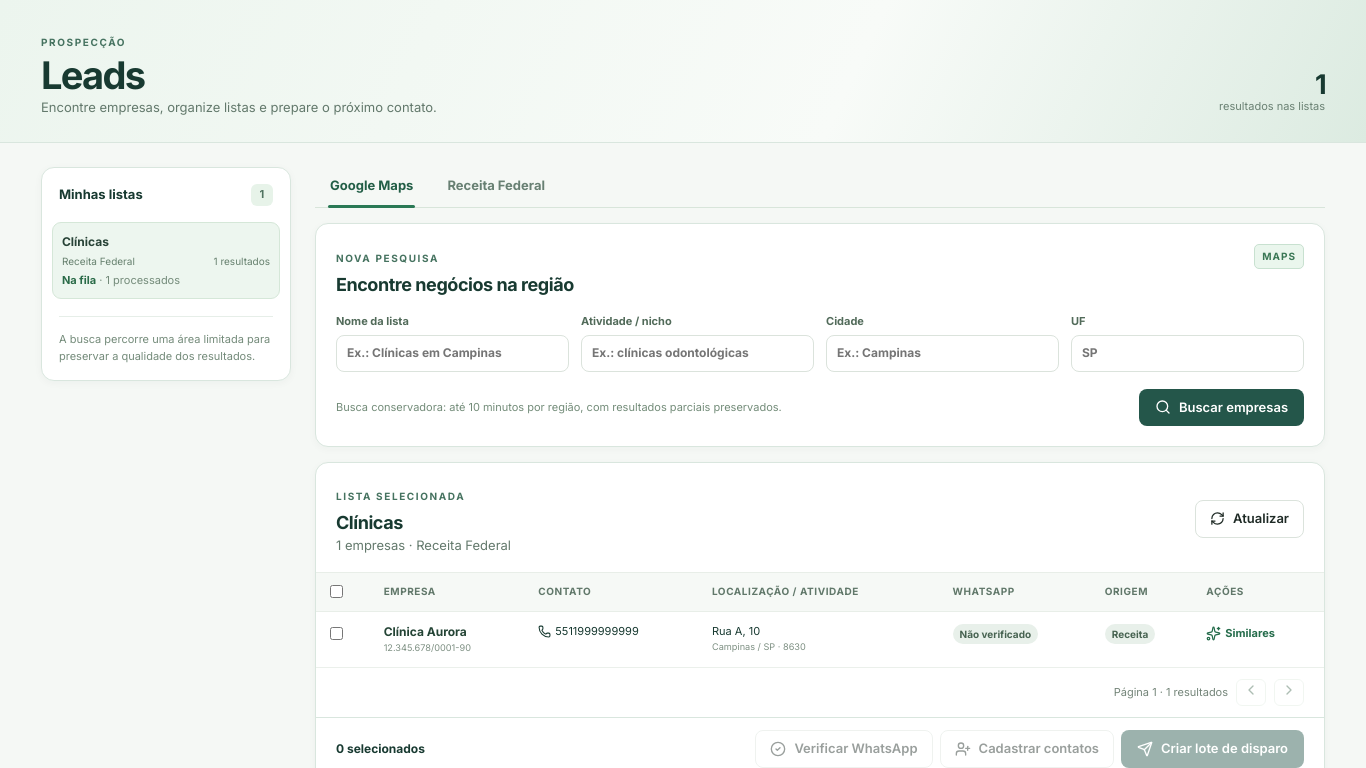
Test case: LeadsPage › switches source forms while keeping saved lists visible
The width and height of the screenshot is (1366, 768).
Click the tab "Receita Federal" at [496, 187], box [432,166,560,207]
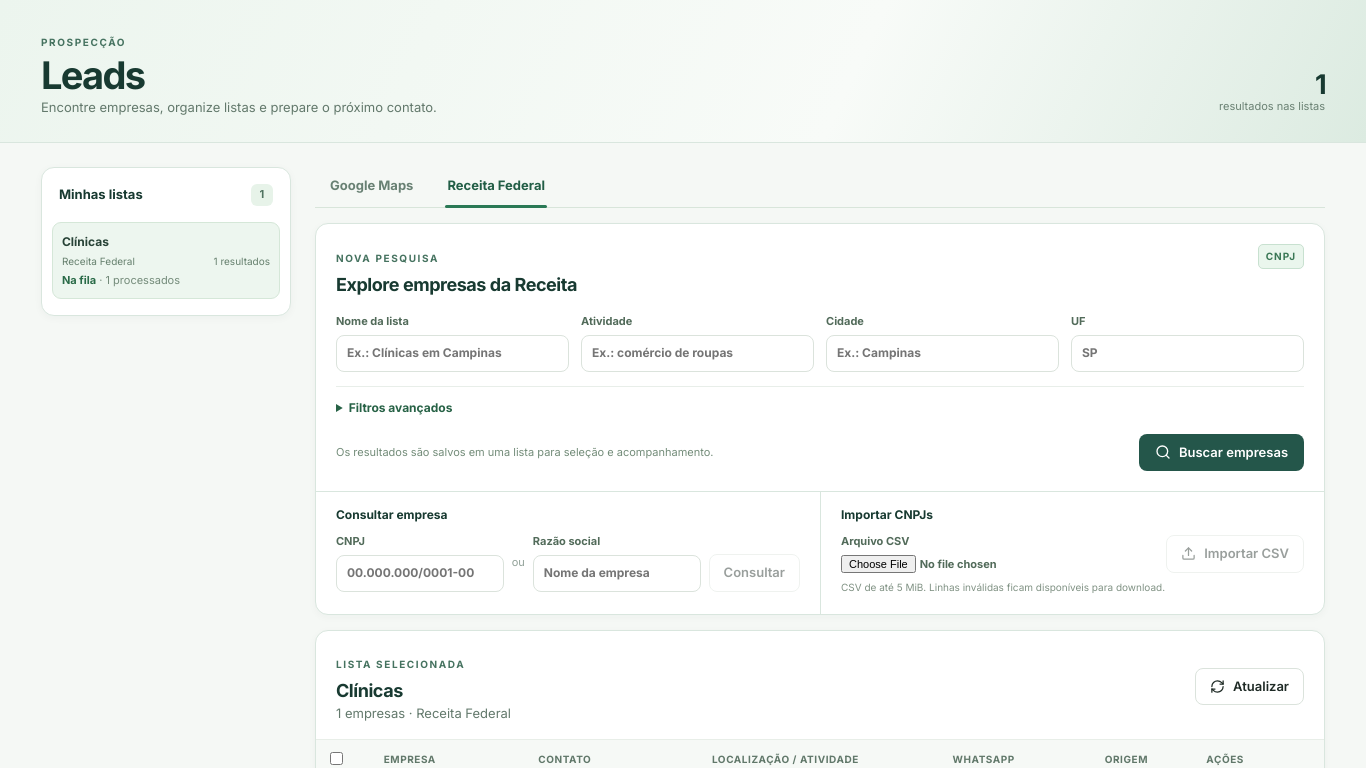
Now the text "Consultar empresa" is shown, box [336,507,448,522]
Now the text "Importar CNPJs" is shown, box [841,507,933,522]
